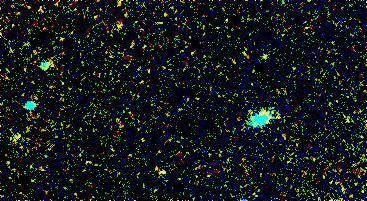star: (252, 42, 282, 72)
